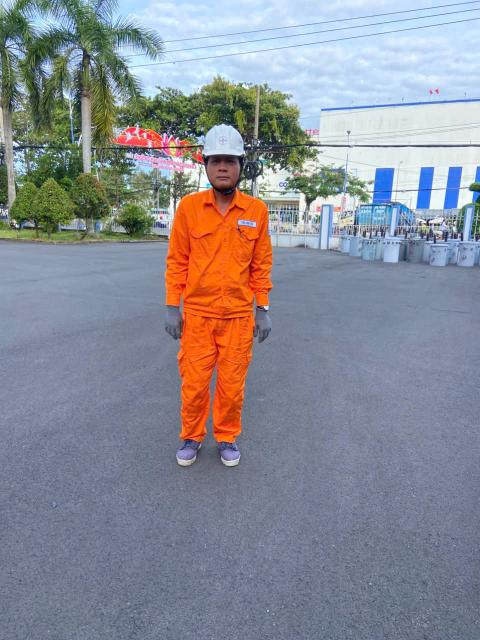gloves: (243, 298, 281, 352), (158, 290, 192, 344)
helmet: (201, 116, 251, 163)
shoes: (162, 424, 208, 476), (206, 418, 243, 469)
